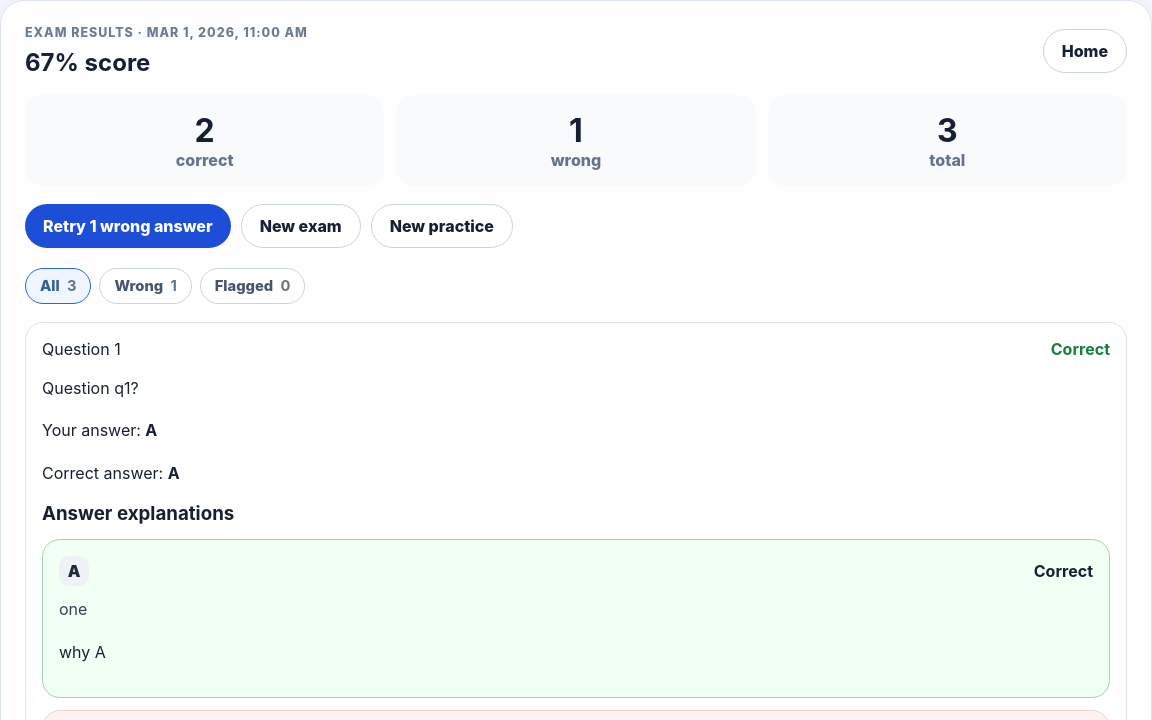
Test case: ResultsView › filters to wrong answers without renumbering them
This screenshot has width=1152, height=720.
Click the button "Wrong 1" at (146, 286), box [99, 268, 192, 304]
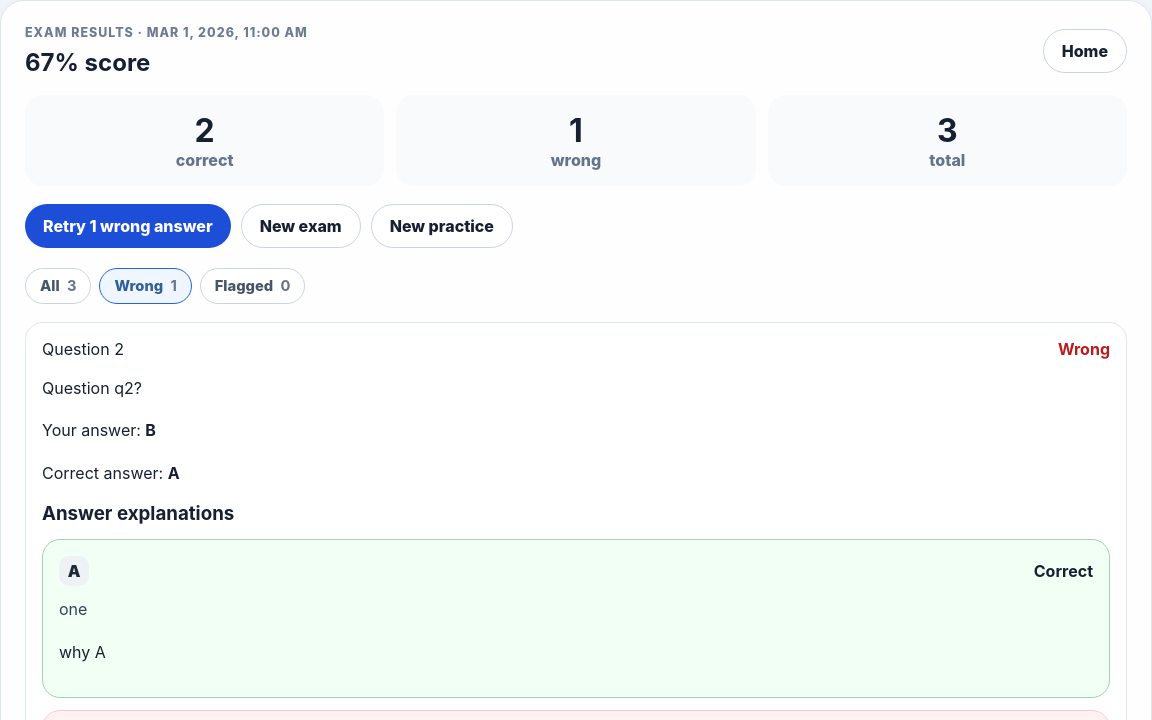
Click the button "Flagged 0" at (253, 286), box [200, 268, 306, 304]
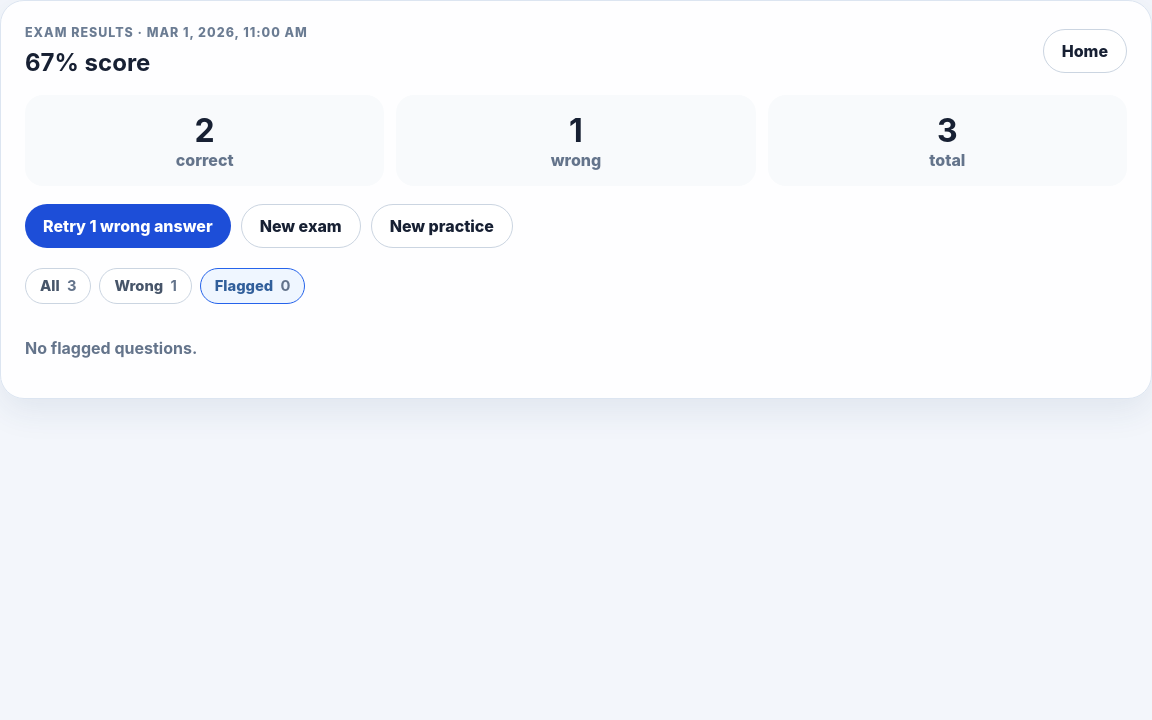
expect the text "No flagged questions." is shown: met, box [25, 338, 197, 358]
